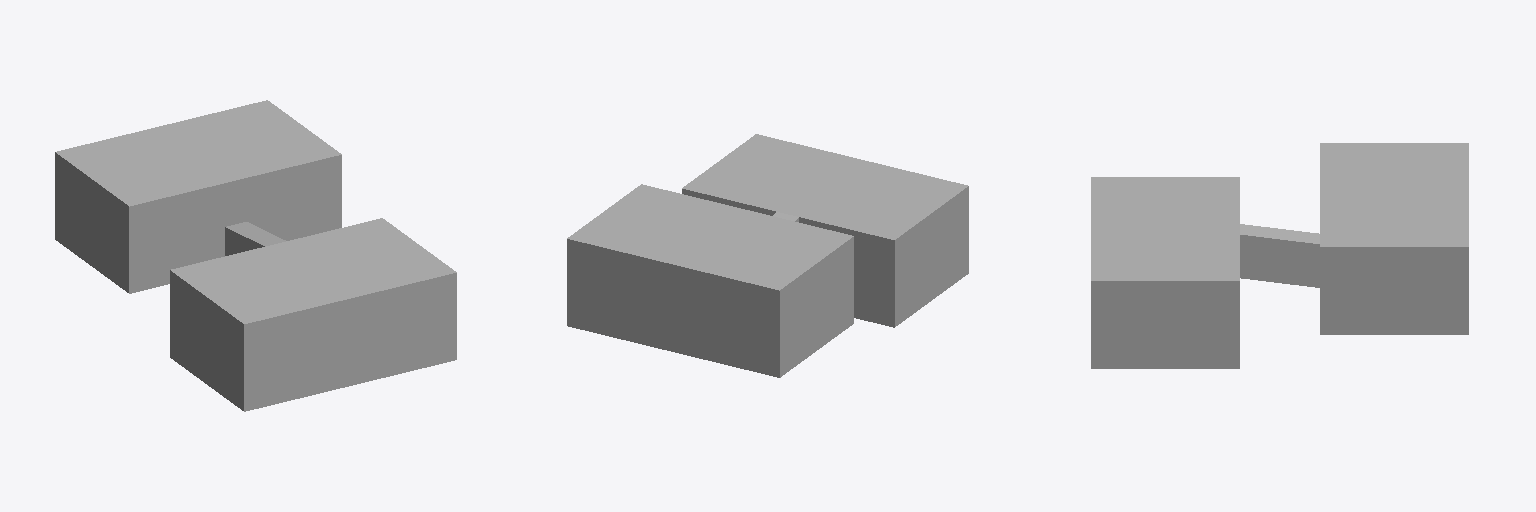
File: placeholder_room2.obj
3 views of the same model, side by side, from view 1: azimuth 30°, elevation 25°; view 2: azimuth 150°, elevation 25°; view 3: azimuth 270°, elevation 25° (orthographic).
Visible parts, largest first — view 1: Cube; view 2: Cube; view 3: Cube.
Boxes of the visible parts, <box> form: Cube: <box>55,100,456,411</box>; Cube: <box>567,134,968,377</box>; Cube: <box>1091,143,1468,368</box>.
Size of the model in its own units: 8.56 by 4.66 by 13.2.